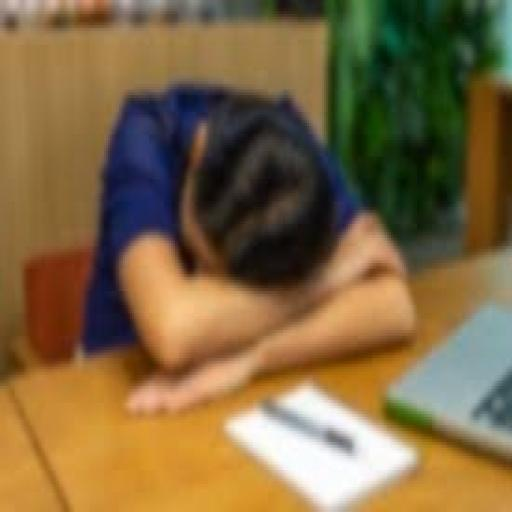sleeping: (78, 75, 419, 417)
